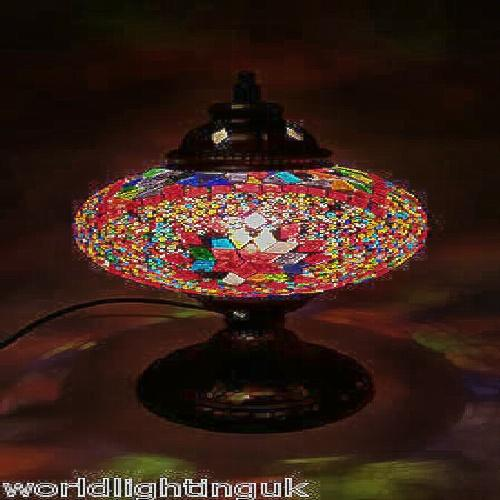lamp: (94, 83, 417, 435)
